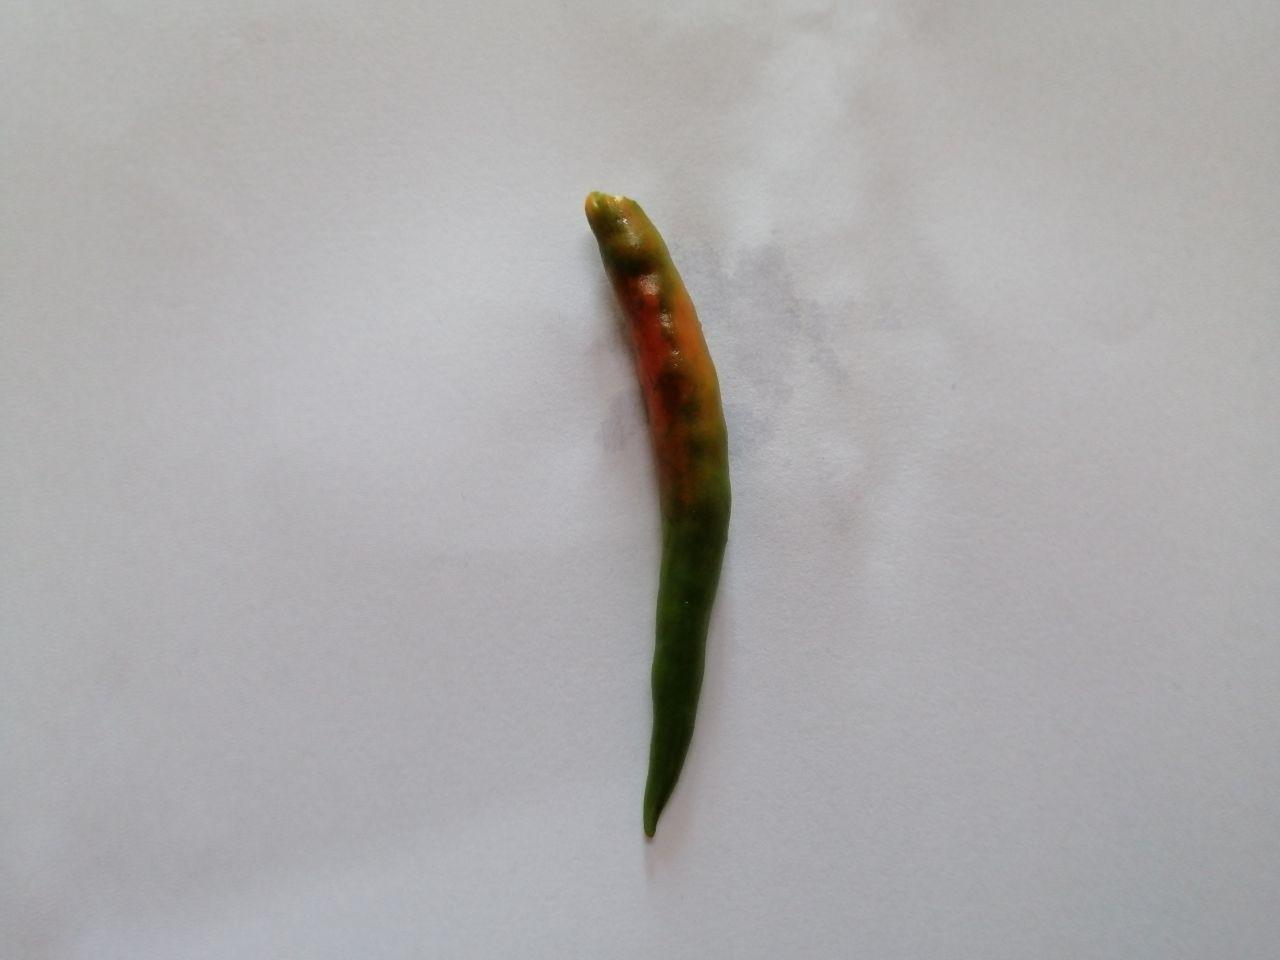lada kuning: (556, 169, 781, 871)
